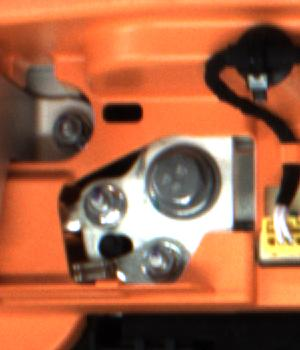nut_b: (145, 139, 227, 227)
screw_s: (141, 238, 181, 279), (83, 187, 121, 225), (51, 114, 83, 146)
